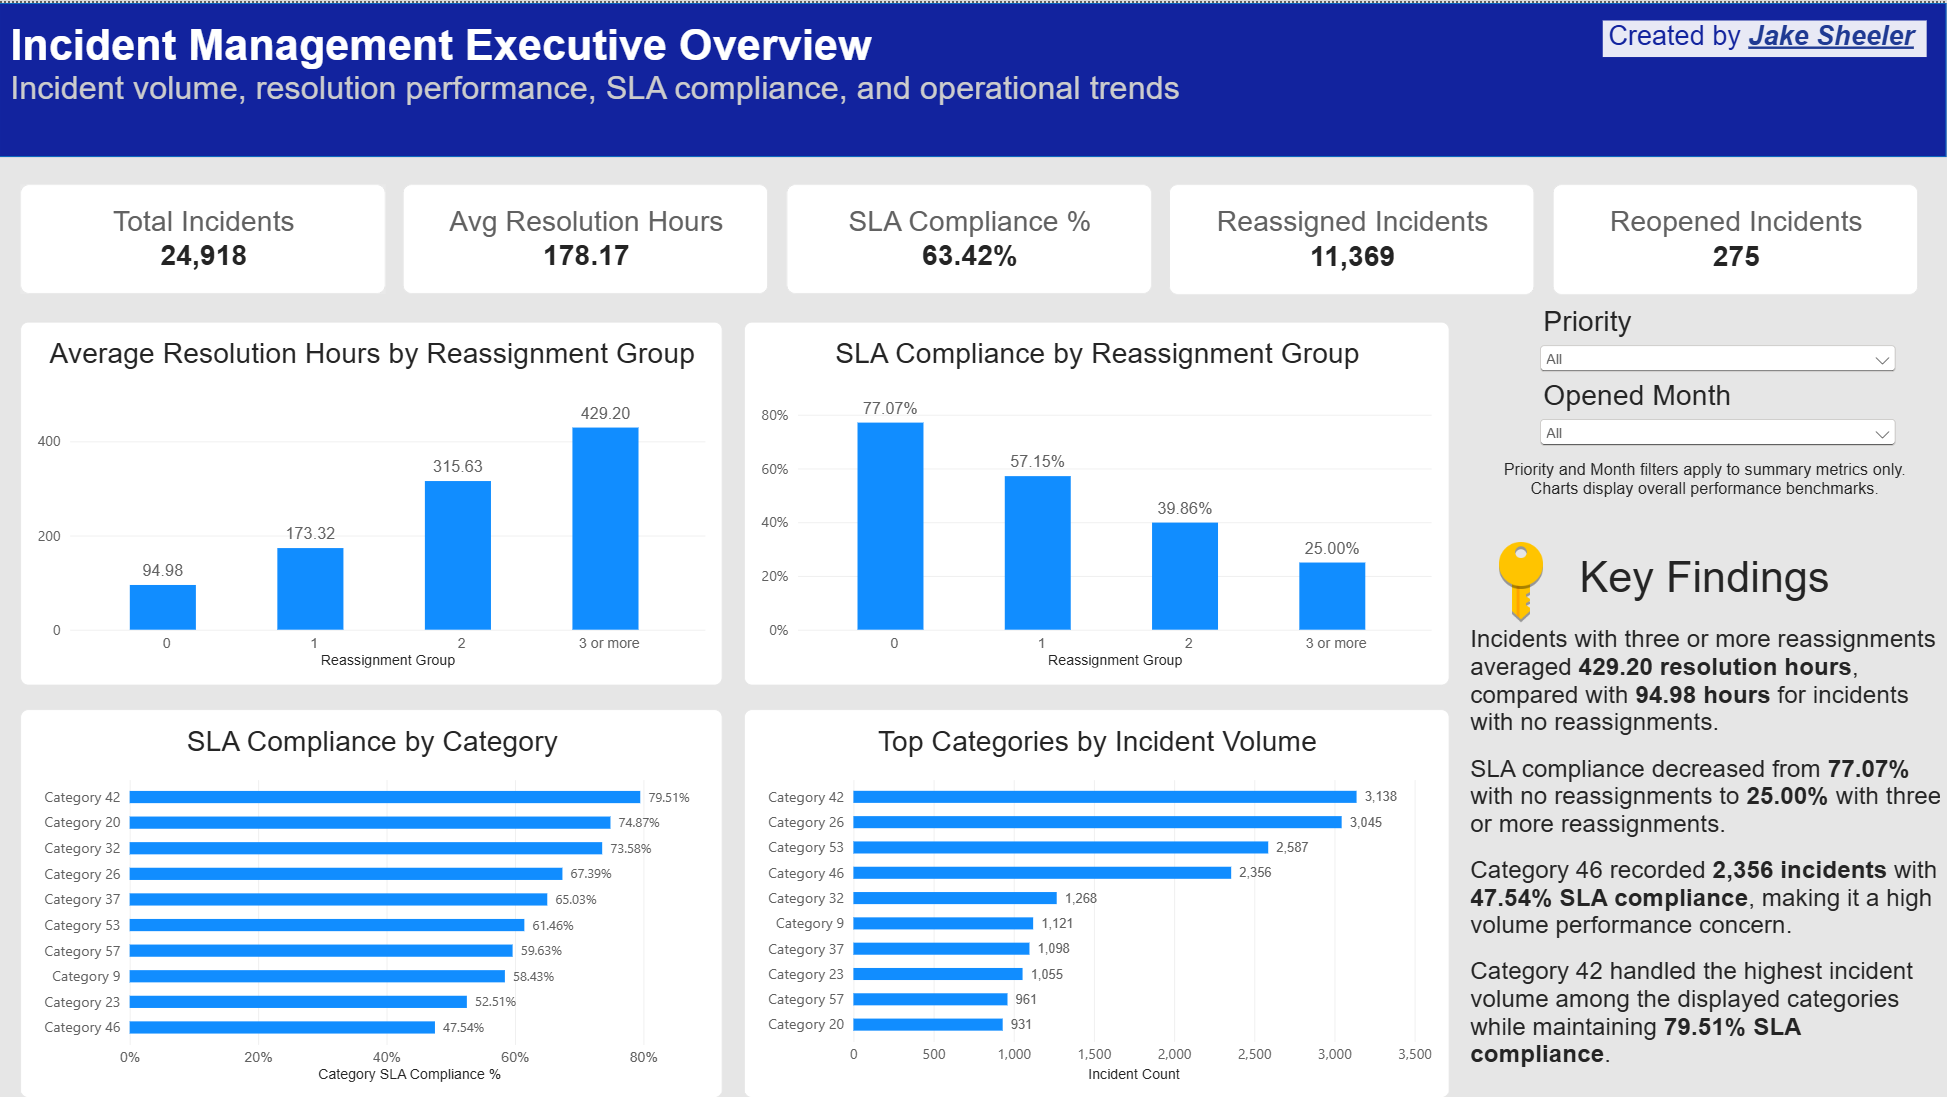

The page's visual inventory and layout, read from the dashboard file:
{"tool":"powerbi","page":{"name":"Executive Overview","canvas":[1920,1080],"ordinal":0},"visuals":[{"type":"shape","box":[0,0,1920,151.8],"z":0},{"type":"cardVisual","title":"Total Incidents","fields":{"Data":["Count(vw_Incident_Summary.number)"]},"box":[21,179.2,360,108.2],"z":1000},{"type":"cardVisual","fields":{"Data":["Avg(vw_Incident_Summary.resolution_hours)"]},"box":[398.4,179.2,360,108.2],"z":2000},{"type":"cardVisual","fields":{"Data":["vw_Incident_Summary.SLA Compliance %"]},"box":[775.8,179.2,360,108.2],"z":3000},{"type":"cardVisual","fields":{"Data":["vw_Incident_Summary.Reassigned Incidents"]},"box":[1153.1,178.4,360,109.8],"z":4000},{"type":"cardVisual","fields":{"Data":["vw_Incident_Summary.Reopened Incidents"]},"box":[1530.5,178.4,360,109.8],"z":5000},{"type":"clusteredColumnChart","title":"Average Resolution Hours by Reassignment Group","fields":{"Category":["vw_Reassignment_Impact.reassignment_group"],"Y":["Avg(vw_Reassignment_Impact.Average_Resolution_Hours)"]},"box":[21.5,313.8,692.2,358.3],"z":6000},{"type":"clusteredColumnChart","title":"SLA Compliance by Reassignment Group","fields":{"Category":["vw_Reassignment_Impact.reassignment_group"],"Y":["vw_Reassignment_Impact.Reassignment SLA %"]},"box":[733.7,313.8,695,358.3],"z":7000},{"type":"clusteredBarChart","title":"Top Categories by Incident Volume","fields":{"Category":["vw_Category_Performance.category"],"Y":["Sum(vw_Category_Performance.Incident_Count)"]},"box":[733.7,696.5,695,384.1],"z":8000},{"type":"clusteredBarChart","title":"SLA Compliance by Category","fields":{"Category":["vw_Category_Performance.category"],"Y":["vw_Category_Performance.Category SLA Compliance %"]},"box":[21.5,696.5,692.2,384.1],"z":9000},{"type":"textbox","box":[11.3,17.8,1290.2,145.3],"z":10000},{"type":"slicer","fields":{"Values":["vw_Incident_Summary.priority"]},"box":[1513.3,298.1,360.1,72.7],"z":11000},{"type":"slicer","fields":{"Values":["vw_Incident_Summary.opened_month"]},"box":[1513.3,371.2,360.1,72.7],"z":12000},{"type":"textbox","box":[1450.2,613.3,470,467.2],"z":13000},{"type":"textbox","box":[1510.4,540.3,341.1,73.1],"z":14000},{"type":"image","box":[1450.2,525.9,100.1,87.2],"z":15000},{"type":"textbox","box":[1460.3,450,439.9,61.6],"z":16000},{"type":"textbox","box":[1580.7,17.2,319.6,35.8],"z":16001}]}

Visuals, with their boxes in screenshot pixels (x1, y1, x2, y2), scaled from the page's 1920x1080 canvas onto the 1947x1097 screenshot:
shape: <bbox>0, 0, 1946, 154</bbox>
"Total Incidents" cardVisual: <bbox>21, 182, 386, 292</bbox>
cardVisual - Avg(vw_Incident_Summary.resolution_hours): <bbox>404, 182, 769, 292</bbox>
cardVisual - vw_Incident_Summary.SLA Compliance %: <bbox>787, 182, 1152, 292</bbox>
cardVisual - vw_Incident_Summary.Reassigned Incidents: <bbox>1169, 181, 1534, 293</bbox>
cardVisual - vw_Incident_Summary.Reopened Incidents: <bbox>1552, 181, 1917, 293</bbox>
"Average Resolution Hours by Reassignment Group" clusteredColumnChart: <bbox>22, 319, 724, 683</bbox>
"SLA Compliance by Reassignment Group" clusteredColumnChart: <bbox>744, 319, 1449, 683</bbox>
"Top Categories by Incident Volume" clusteredBarChart: <bbox>744, 707, 1449, 1096</bbox>
"SLA Compliance by Category" clusteredBarChart: <bbox>22, 707, 724, 1096</bbox>
textbox: <bbox>11, 18, 1320, 166</bbox>
slicer - vw_Incident_Summary.priority: <bbox>1535, 303, 1900, 377</bbox>
slicer - vw_Incident_Summary.opened_month: <bbox>1535, 377, 1900, 451</bbox>
textbox: <bbox>1471, 623, 1946, 1096</bbox>
textbox: <bbox>1532, 549, 1878, 623</bbox>
image: <bbox>1471, 534, 1572, 623</bbox>
textbox: <bbox>1481, 457, 1927, 520</bbox>
textbox: <bbox>1603, 17, 1927, 54</bbox>
